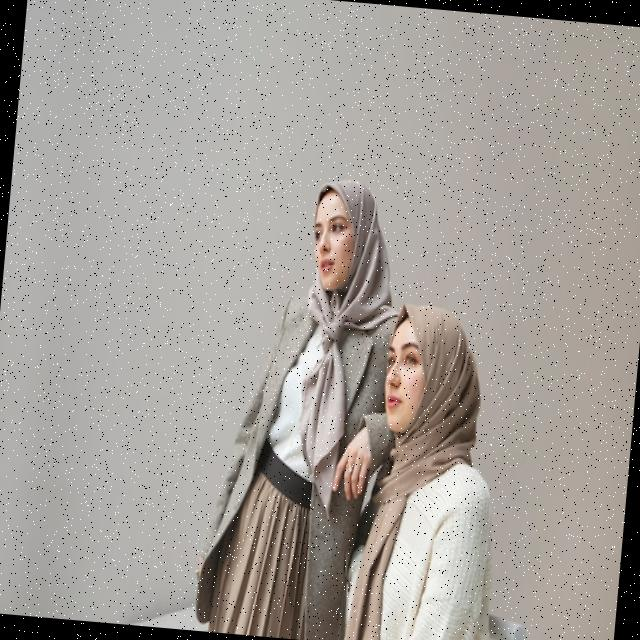Person: (190, 166, 418, 640), (342, 295, 519, 640)
